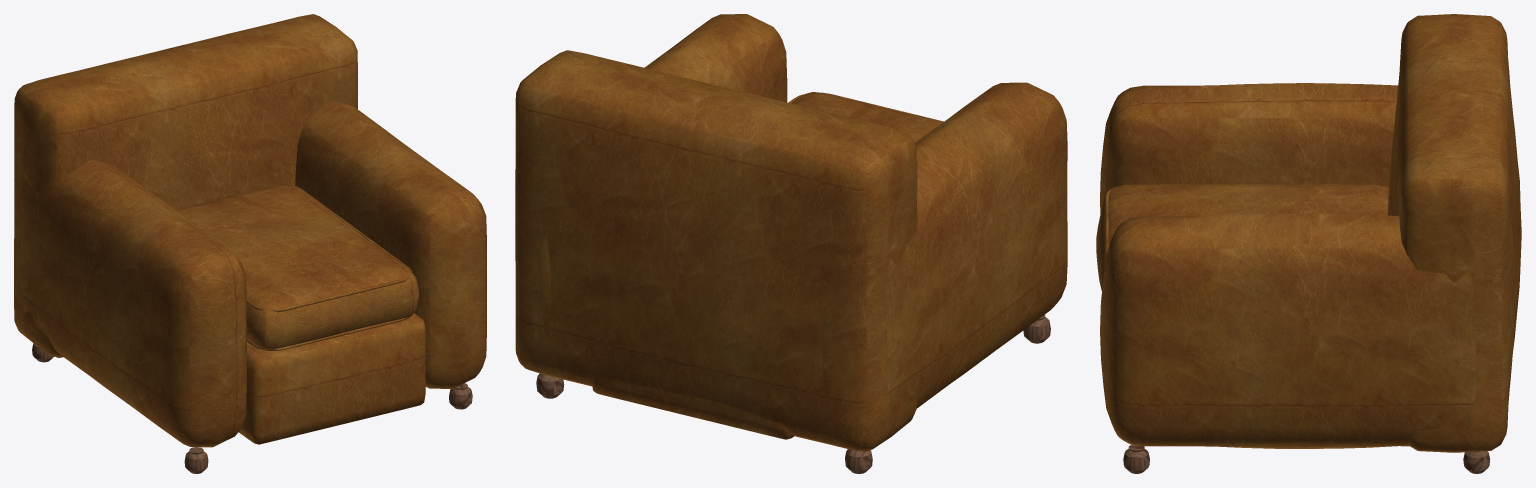
File: butaca_club_conac.glb
3 renders of one model, left to right at view 1: azimuth 30°, elevation 25°; view 2: azimuth 150°, elevation 25°; view 3: azimuth 270°, elevation 25°, orthographic. The views are drawn at different scales.
Visible parts, largest first — view 1: butaca_club_conac; view 2: butaca_club_conac; view 3: butaca_club_conac.
Boxes of the visible parts, x1=… form: butaca_club_conac: x1=14, y1=14, x2=486, y2=473; butaca_club_conac: x1=515, y1=14, x2=1067, y2=473; butaca_club_conac: x1=1096, y1=14, x2=1521, y2=473.
Size of the model in its own units: 0.9289 by 0.7705 by 0.9509.
Materials: 2 (2 with a texture image).
